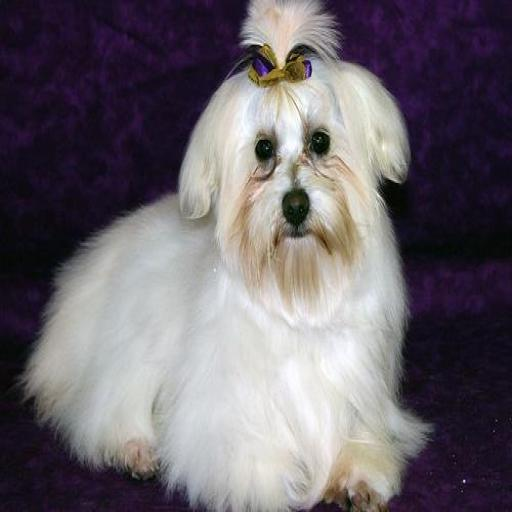dog_face: (174, 2, 412, 309)
